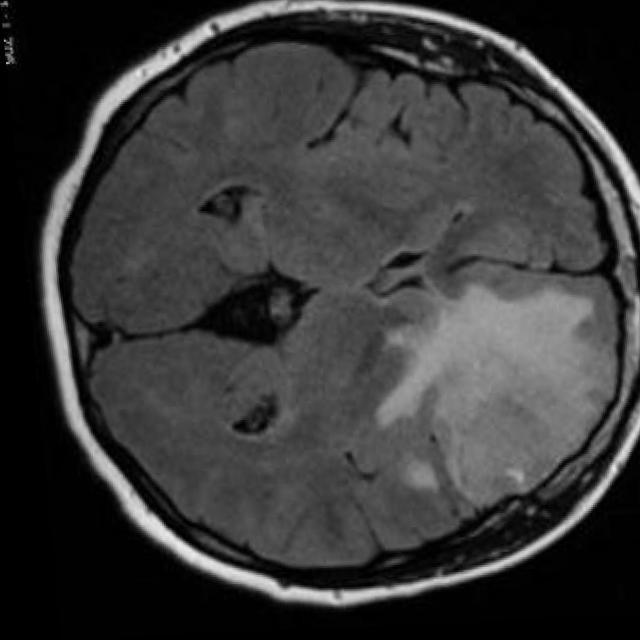Tumor: (371, 284, 606, 512)
